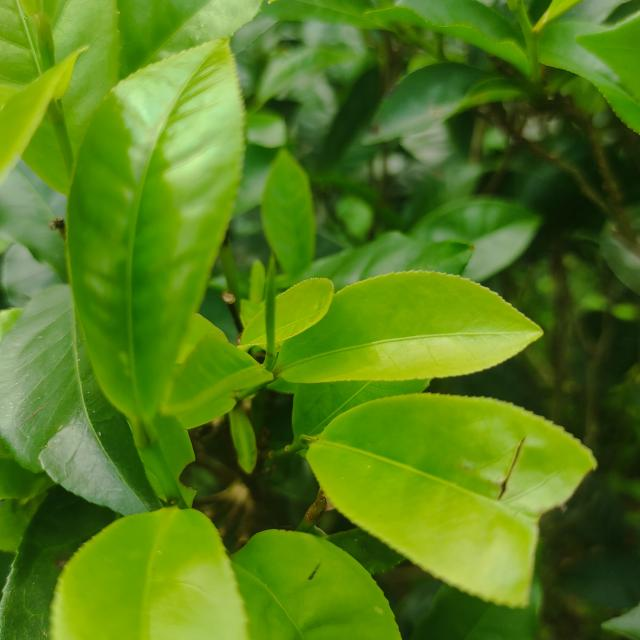unopened_leaf: (253, 243, 285, 369)
